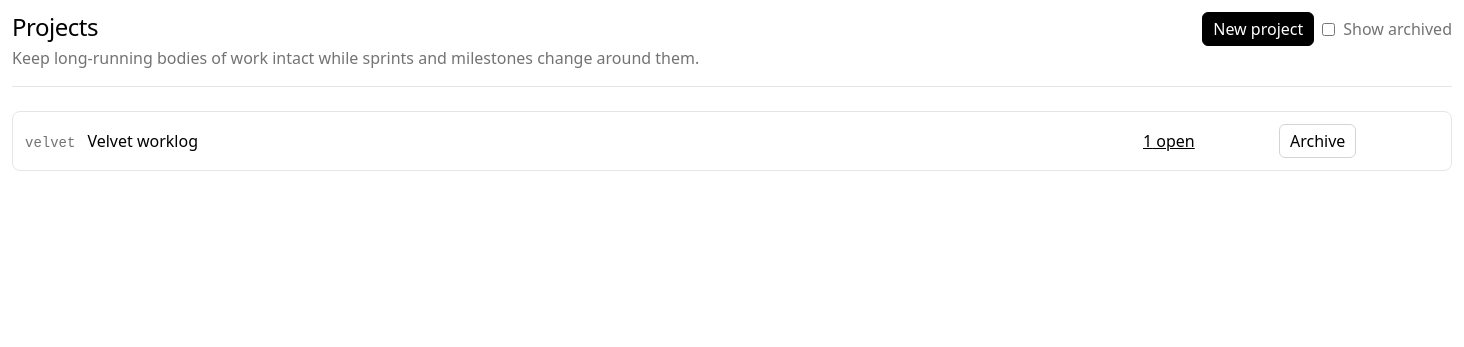
Test: ProjectsPage › keeps archive confirmation open and reports a failed mutation
Click the button "Archive".
click(1318, 141)  # box [1279,124,1356,158]
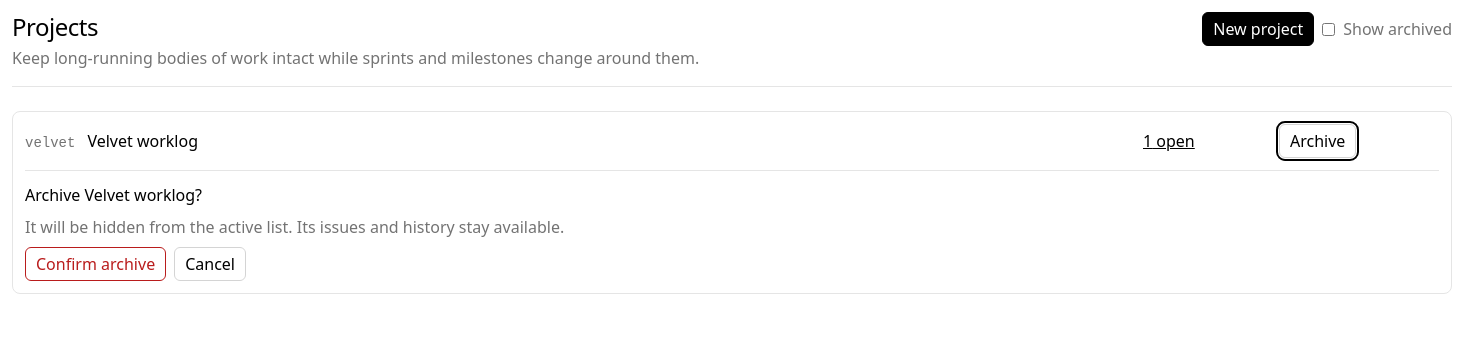
Click the button with aria-label "Confirm archive Velvet worklog".
click(96, 264)  # box [25,247,166,281]
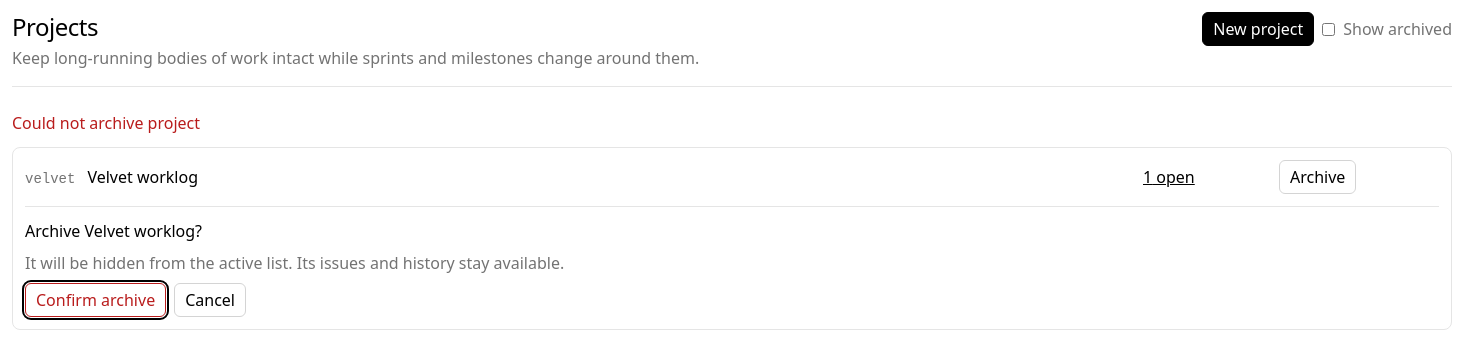
Result: the text "Archive Velvet worklog?" is shown at [25,220,202,242]
Result: the button with aria-label "Confirm archive Velvet worklog" is enabled at [25,283,166,317]
Result: the message reads "Could not archive project" at [12,112,200,134]
